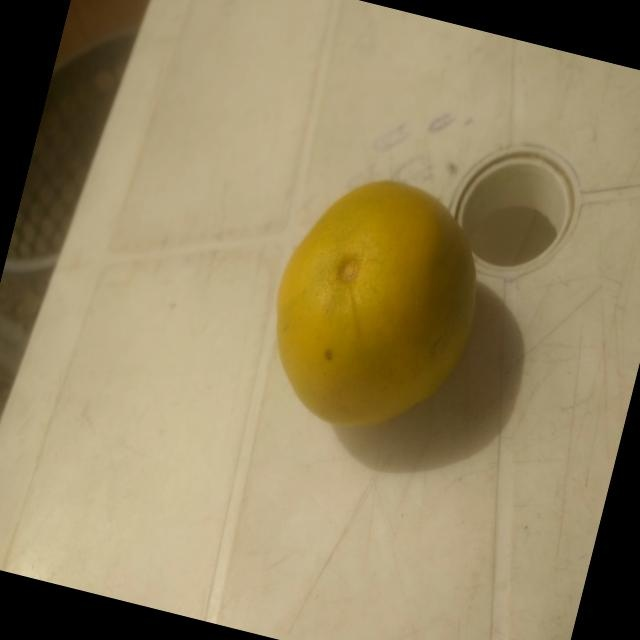agrume: (246, 159, 502, 458)
